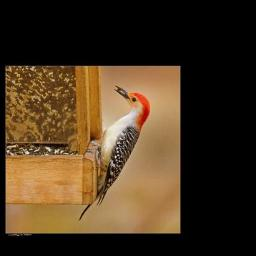Woodpecker: (79, 85, 151, 221)
